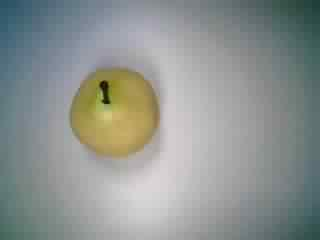pear: (55, 59, 169, 162)
